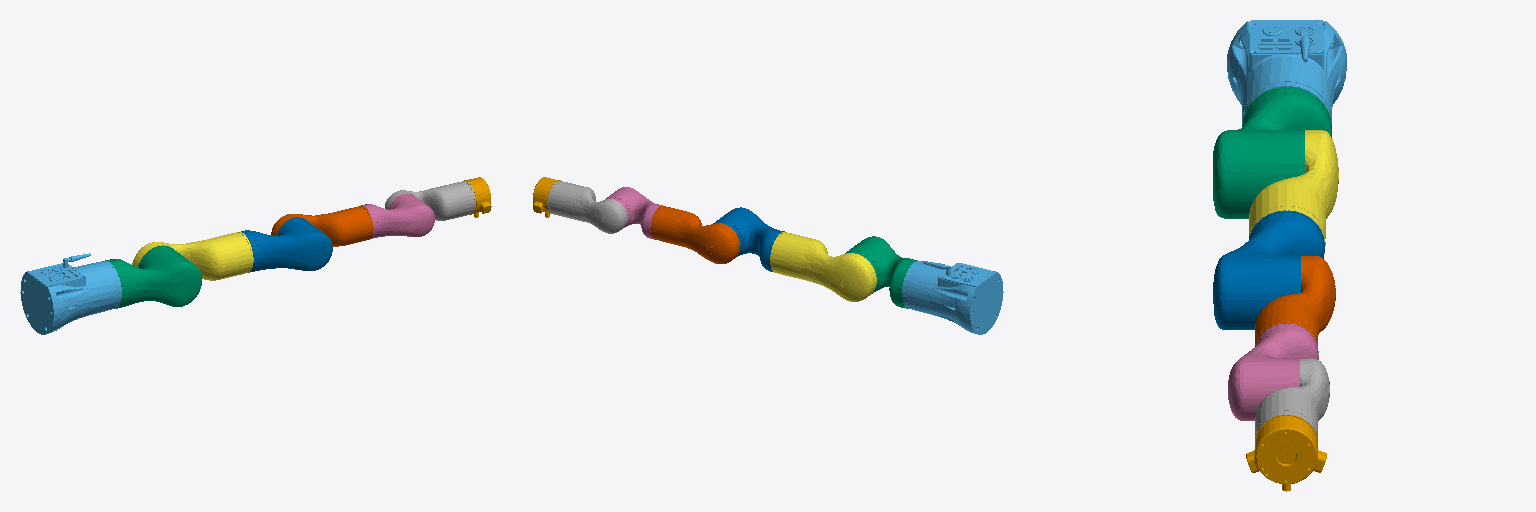
robot.urdf — rm75:
<?xml version="1.0" encoding="utf-8"?>
<robot name="rm75">
  <link name="world_base"/>
  <joint name="world_joint" type="fixed">
    <origin xyz="0.138497 0 0" rpy="-1.57079 1.57079 0"/>
    <parent link="world_base"/>
    <child link="arm_base"/>
  </joint>
  <link name="arm_base">
    <visual>
      <geometry>
        <mesh filename="meshes/visual/rm75_link_0.obj"/>
      </geometry>
    </visual>
    <collision>
      <geometry>
        <mesh filename="meshes/collision/rm75_link_0.obj"/>
      </geometry>
    </collision>
  </link>
  <link name="rm75_link_1">
    <inertial>
      <origin xyz="-0.0211077206294248 -0.0768143023644786 -0.000184059931994218" rpy="0 0 0"/>
      <mass value="0.593560332787429"/>
      <inertia ixx="0.00118168579764742" ixy="-0.000211208113035036" ixz="-7.25313887508386E-07"
               iyy="0.000561349347423681" iyz="-1.83321926915751E-06" izz="0.00126613288987183"/>
    </inertial>
    <visual>
      <geometry>
        <mesh filename="meshes/visual/rm75_link_1.obj"/>
      </geometry>
    </visual>
    <collision>
      <geometry>
        <mesh filename="meshes/collision/rm75_link_1.obj"/>
      </geometry>
    </collision>
  </link>
  <joint name="joint_1" type="revolute">
    <origin xyz="0 0 0" rpy="0 -1.57079 0"/>
    <parent link="arm_base"/>
    <child link="rm75_link_1"/>
    <axis xyz="0 -1 0"/>
    <limit lower="-3.14" upper="3.14" effort="0" velocity="0"/>
  </joint>
  <link name="rm75_link_2">
    <inertial>
      <origin xyz="-0.00538333319864128 -0.0761297609224655 -5.85592772051058E-08" rpy="0 0 0"/>
      <mass value="0.43285067491302"/>
      <inertia ixx="0.00122245027307076" ixy="-0.000279002266374725" ixz="-6.16288419375421E-09"
               iyy="0.000317472185553248" iyz="-1.42918067916209E-09" izz="0.00125837852309913"/>
    </inertial>
    <visual>
      <geometry>
        <mesh filename="meshes/visual/rm75_link_2.obj"/>
      </geometry>
    </visual>
    <collision>
      <geometry>
        <mesh filename="meshes/collision/rm75_link_2.obj"/>
      </geometry>
    </collision>
  </link>
  <joint name="joint_2" type="revolute">
    <origin xyz="0.01646 -0.102 0.00014365" rpy="0 -0.0087266 0"/>
    <parent link="rm75_link_1"/>
    <child link="rm75_link_2"/>
    <axis xyz="1 0 0"/>
    <limit lower="-3.14" upper="3.14" effort="0" velocity="0"/>
  </joint>
  <link name="rm75_link_3">
    <inertial>
      <origin xyz="-0.0229438462116271 -0.0761527997547926 -0.000202637702619191" rpy="0 0 0"/>
      <mass value="0.431323256975464"/>
      <inertia ixx="0.000730375831773939" ixy="-0.000142609868347039" ixz="-5.51348702629857E-07"
               iyy="0.000315056960779462" iyz="-1.24420805510127E-06" izz="0.000794323182493074"/>
    </inertial>
    <visual>
      <geometry>
        <mesh filename="meshes/visual/rm75_link_3.obj"/>
      </geometry>
    </visual>
    <collision>
      <geometry>
        <mesh filename="meshes/collision/rm75_link_3.obj"/>
      </geometry>
    </collision>
  </link>
  <joint name="joint_3" type="revolute">
    <origin xyz="-0.017061 -0.1525 0" rpy="0 0.0087266 0"/>
    <parent link="rm75_link_2"/>
    <child link="rm75_link_3"/>
    <axis xyz="0 -1 0"/>
    <limit lower="-3.14" upper="3.14" effort="0" velocity="0"/>
  </joint>
  <link name="rm75_link_4">
    <inertial>
      <origin xyz="-0.00266694591650199 -0.0595927393682475 -4.43204636102479E-06" rpy="0 0 0"/>
      <mass value="0.289640633455538"/>
      <inertia ixx="0.000614175096706907" ixy="-0.000144607251054507" ixz="3.36058890161805E-08"
               iyy="0.000156487088714941" iyz="5.86786617519025E-08" izz="0.000637363568489521"/>
    </inertial>
    <visual>
      <geometry>
        <mesh filename="meshes/visual/rm75_link_4.obj"/>
      </geometry>
    </visual>
    <collision>
      <geometry>
        <mesh filename="meshes/collision/rm75_link_4.obj"/>
      </geometry>
    </collision>
  </link>
  <joint name="joint_4" type="revolute">
    <origin xyz="0.013535 -0.1035 0.00011701" rpy="0 -0.0087266 0"/>
    <parent link="rm75_link_3"/>
    <child link="rm75_link_4"/>
    <axis xyz="1 0 0"/>
    <limit lower="-3.14" upper="3.14" effort="0" velocity="0"/>
  </joint>
  <link name="rm75_link_5">
    <inertial>
      <origin xyz="-0.0180416196430215 -0.0599608557029523 -0.000158546565612205" rpy="0 0 0"/>
      <mass value="0.2394192926691"/>
      <inertia ixx="0.000262731128614883" ixy="-4.42355773627576E-05" ixz="-2.04745867573492E-07"
               iyy="0.000119890319412695" iyz="-3.87391677184994E-07" izz="0.000285939963268203"/>
    </inertial>
    <visual>
      <geometry>
        <mesh filename="meshes/visual/rm75_link_5.obj"/>
      </geometry>
    </visual>
    <collision>
      <geometry>
        <mesh filename="meshes/collision/rm75_link_5.obj"/>
      </geometry>
    </collision>
  </link>
  <joint name="joint_5" type="revolute">
    <origin xyz="-0.013236 -0.1285 0" rpy="0 0.0087266 0"/>
    <parent link="rm75_link_4"/>
    <child link="rm75_link_5"/>
    <axis xyz="0 -1 0"/>
    <limit lower="-3.14" upper="3.14" effort="0" velocity="0"/>
  </joint>
  <link name="rm75_link_6">
    <inertial>
      <origin xyz="-0.00506760113925948 -0.0593814209380522 -3.67703718251455E-06" rpy="0 0 0"/>
      <mass value="0.218795686891305"/>
      <inertia ixx="0.000334476012884826" ixy="-7.82422122764673E-05" ixz="1.62433433910283E-08"
               iyy="0.000104927345235043" iyz="2.94094695871064E-08" izz="0.000350535563728772"/>
    </inertial>
    <visual>
      <geometry>
        <mesh filename="meshes/visual/rm75_link_6.obj"/>
      </geometry>
    </visual>
    <collision>
      <geometry>
        <mesh filename="meshes/collision/rm75_link_6.obj"/>
      </geometry>
    </collision>
  </link>
  <joint name="joint_6" type="revolute">
    <origin xyz="0.012136 -0.0815 0.00010591" rpy="0 -0.0087266 0"/>
    <parent link="rm75_link_5"/>
    <child link="rm75_link_6"/>
    <axis xyz="1 0 0"/>
    <limit lower="-3.14" upper="3.14" effort="0" velocity="0"/>
  </joint>
  <link name="rm75_link_7">
    <inertial>
      <origin xyz="0.0007182 -0.00039901 -0.012697" rpy="0 0 0"/>
      <mass value="0.18088"/>
      <inertia ixx="5.6496E-05" ixy="-3.7101E-06" ixz="-7.5579E-08" iyy="5.2359E-05"
               iyz="1.1327E-08" izz="8.8503E-05"/>
    </inertial>
    <visual>
      <origin xyz="0 0 0" rpy=" 0 0 -1.047197 "/>
      <geometry>
        <mesh filename="meshes/visual/rm75_link_7.obj"/>
      </geometry>
    </visual>
    <collision>
      <origin xyz="0 0 0" rpy=" 0 0 -1.047197 "/>
      <geometry>
        <mesh filename="meshes/collision/rm75_link_7.obj"/>
      </geometry>
    </collision>
  </link>
  <joint name="joint_7" type="revolute">
    <origin xyz="-0.012436 -0.144 0" rpy="1.57059 0 0"/>
    <parent link="rm75_link_6"/>
    <child link="rm75_link_7"/>
    <axis xyz="0 0 1"/>
    <limit lower="-3.14" upper="3.14" effort="100" velocity="1"/>
  </joint>
  <link name="ee_link"/>
  <joint name="ee_joint" type="fixed">
    <parent link="rm75_link_7"/>
    <child link="ee_link"/>
    <origin rpy="0 0 0" xyz="0 0 0"/>
  </joint>
</robot>

--- What the picture shows (computed from the rendered views, not written in the file) ---
The picture shows the robot from 3 angles, left to right: view 1: azimuth 30°, elevation 25°; view 2: azimuth 150°, elevation 25°; view 3: azimuth 270°, elevation 25°; orthographic projection.
Model rm75 with 10 links and 9 joints (7 revolute, 2 fixed), rooted at world_base, posed all joints at 0.
Links seen in each view (by area): view 1: arm_base, rm75_link_1, rm75_link_3, rm75_link_2, rm75_link_5, rm75_link_4, rm75_link_6, rm75_link_7; view 2: arm_base, rm75_link_2, rm75_link_4, rm75_link_6, rm75_link_1, rm75_link_3, rm75_link_5, rm75_link_7; view 3: rm75_link_1, arm_base, rm75_link_3, rm75_link_5, rm75_link_2, rm75_link_7, rm75_link_4, rm75_link_6.
Link boxes in pixels (x1,y1,x2,y2): arm_base: (20, 253, 121, 334); rm75_link_1: (105, 245, 201, 308); rm75_link_3: (241, 217, 332, 272); rm75_link_2: (132, 232, 253, 280); rm75_link_5: (361, 193, 434, 238); rm75_link_4: (271, 206, 373, 246); rm75_link_6: (385, 181, 475, 220); rm75_link_7: (464, 177, 491, 217); arm_base: (902, 261, 1003, 334); rm75_link_2: (770, 232, 876, 301); rm75_link_4: (650, 206, 739, 263); rm75_link_6: (548, 181, 627, 233); rm75_link_1: (845, 236, 917, 308); rm75_link_3: (713, 207, 784, 271); rm75_link_5: (606, 187, 662, 238); rm75_link_7: (533, 177, 560, 217); rm75_link_1: (1213, 87, 1331, 218); arm_base: (1227, 20, 1346, 124); rm75_link_3: (1213, 210, 1324, 329); rm75_link_5: (1228, 323, 1318, 420); rm75_link_2: (1249, 130, 1338, 253); rm75_link_7: (1246, 414, 1326, 491); rm75_link_4: (1255, 256, 1335, 346); rm75_link_6: (1255, 358, 1329, 436).
Size in the robot's own frame: 0.8508 by 0.123 by 0.1143 metres.
Meshes: 8 distinct files referenced, 8 mesh visuals loaded (8 OBJ).
